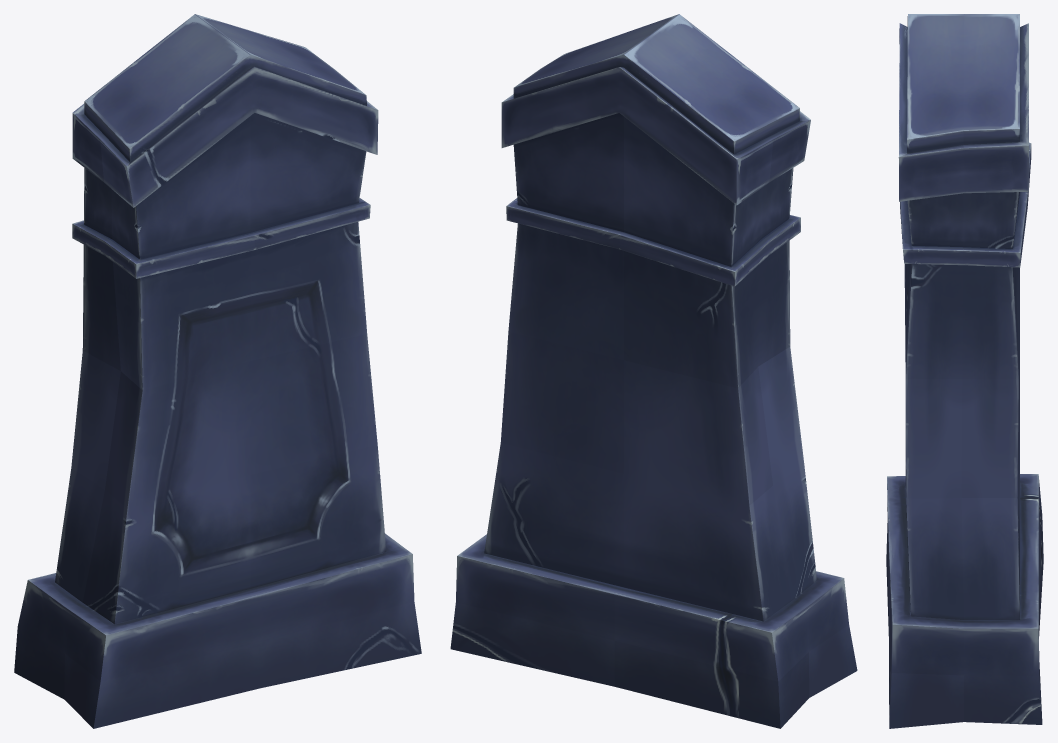
The model's file is gravestone1_3.fbx.
The picture shows the model from 3 angles, left to right: view 1: azimuth 30°, elevation 25°; view 2: azimuth 150°, elevation 25°; view 3: azimuth 270°, elevation 25°; orthographic projection.
Parts seen in each view (by area): view 1: Cube.003; view 2: Cube.003; view 3: Cube.003.
Part boxes in pixels (x1,y1,x2,y2): Cube.003: (14, 14, 421, 728); Cube.003: (450, 14, 857, 728); Cube.003: (886, 14, 1043, 728).
Bounding box in the file's own units: 248 × 451 × 101.
